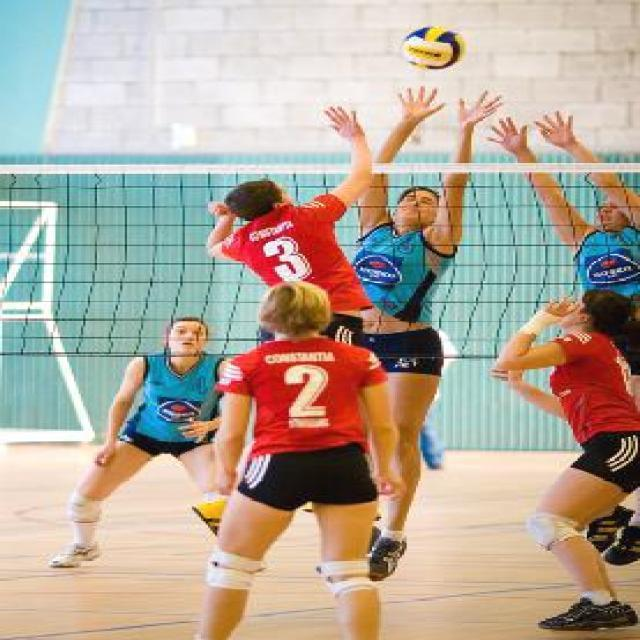volleyball: (400, 27, 464, 70)
